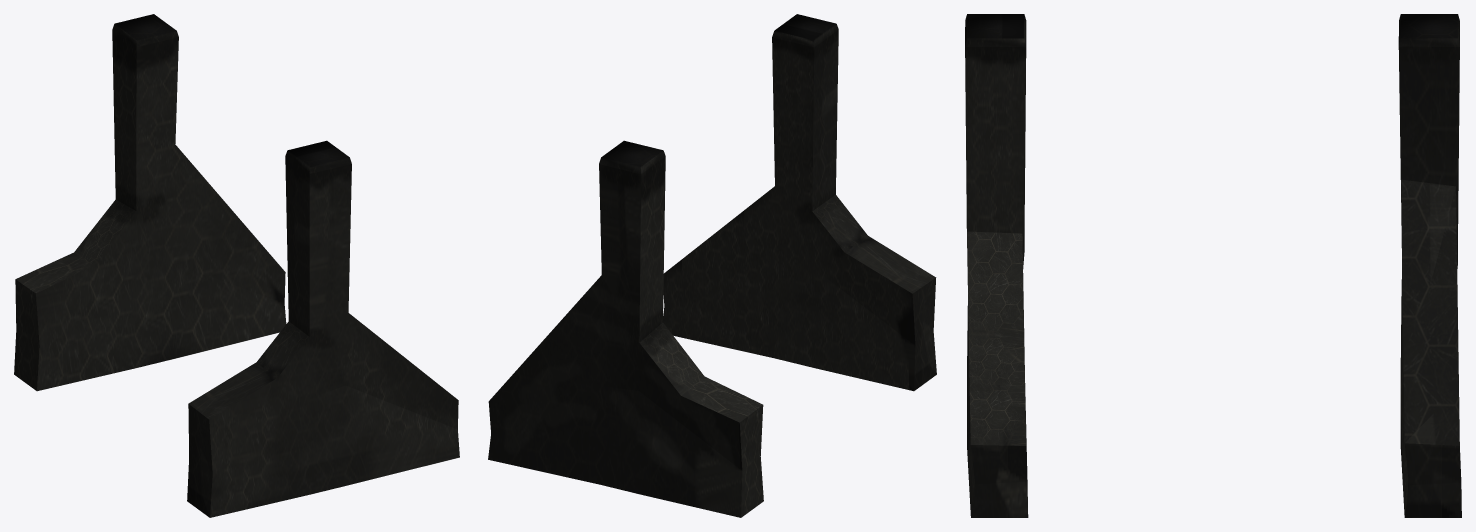
Rendered from PlatformPodest.fbx.
3 renders of one model, left to right at view 1: azimuth 30°, elevation 25°; view 2: azimuth 150°, elevation 25°; view 3: azimuth 270°, elevation 25°, orthographic. The views are drawn at different scales.
Visible parts, largest first — view 1: Cube; view 2: Cube; view 3: Cube.
Part boxes in pixels (x1,y1,x2,y2): Cube: [14, 14, 459, 517]; Cube: [488, 14, 936, 517]; Cube: [965, 14, 1461, 517].
Size of the model in its own units: 1272 by 1585 by 1735.
1 material, 1 textured.
